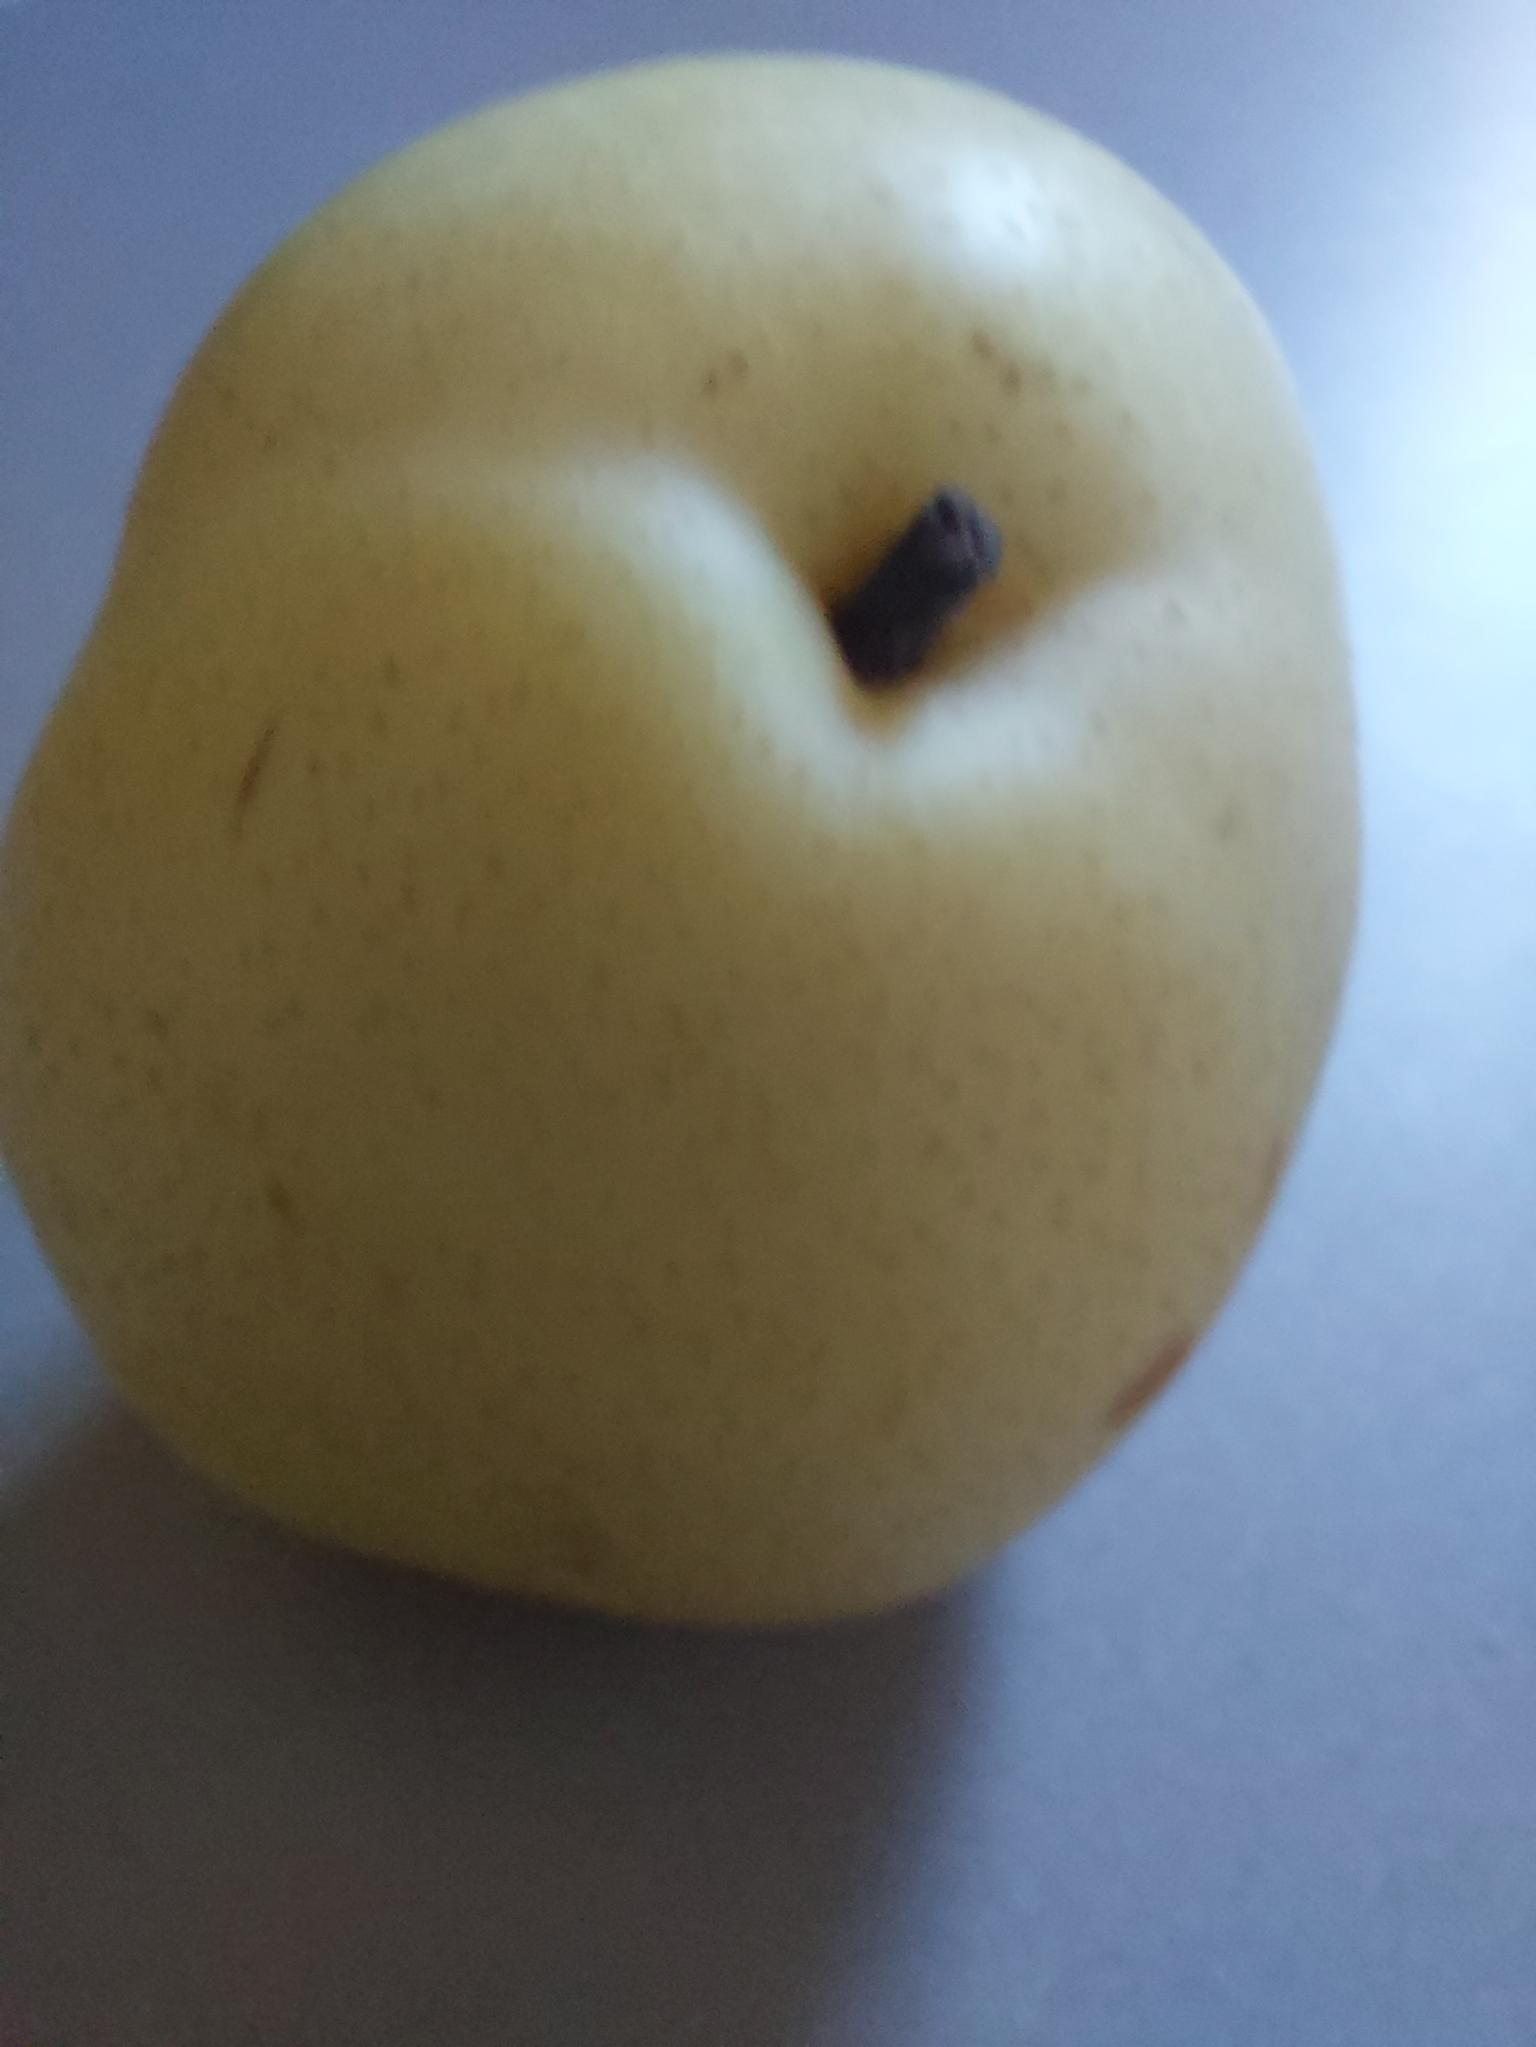Good Pear: (13, 40, 1388, 1644)
